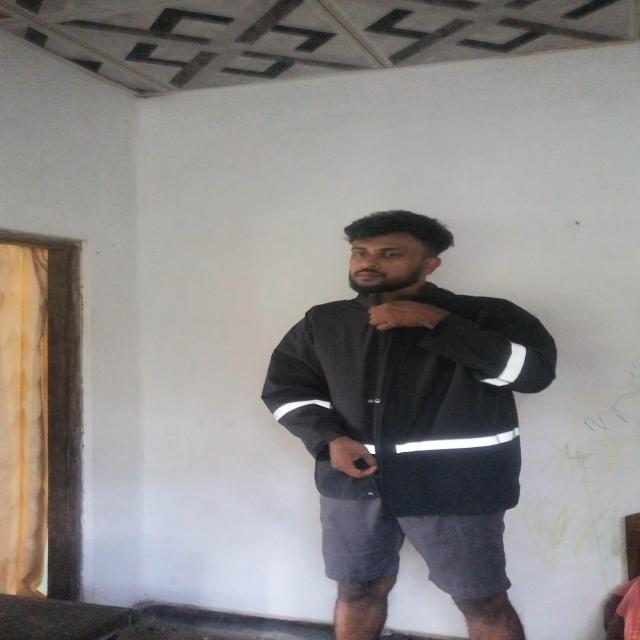Jacket_Wearer: (264, 291, 586, 502)
